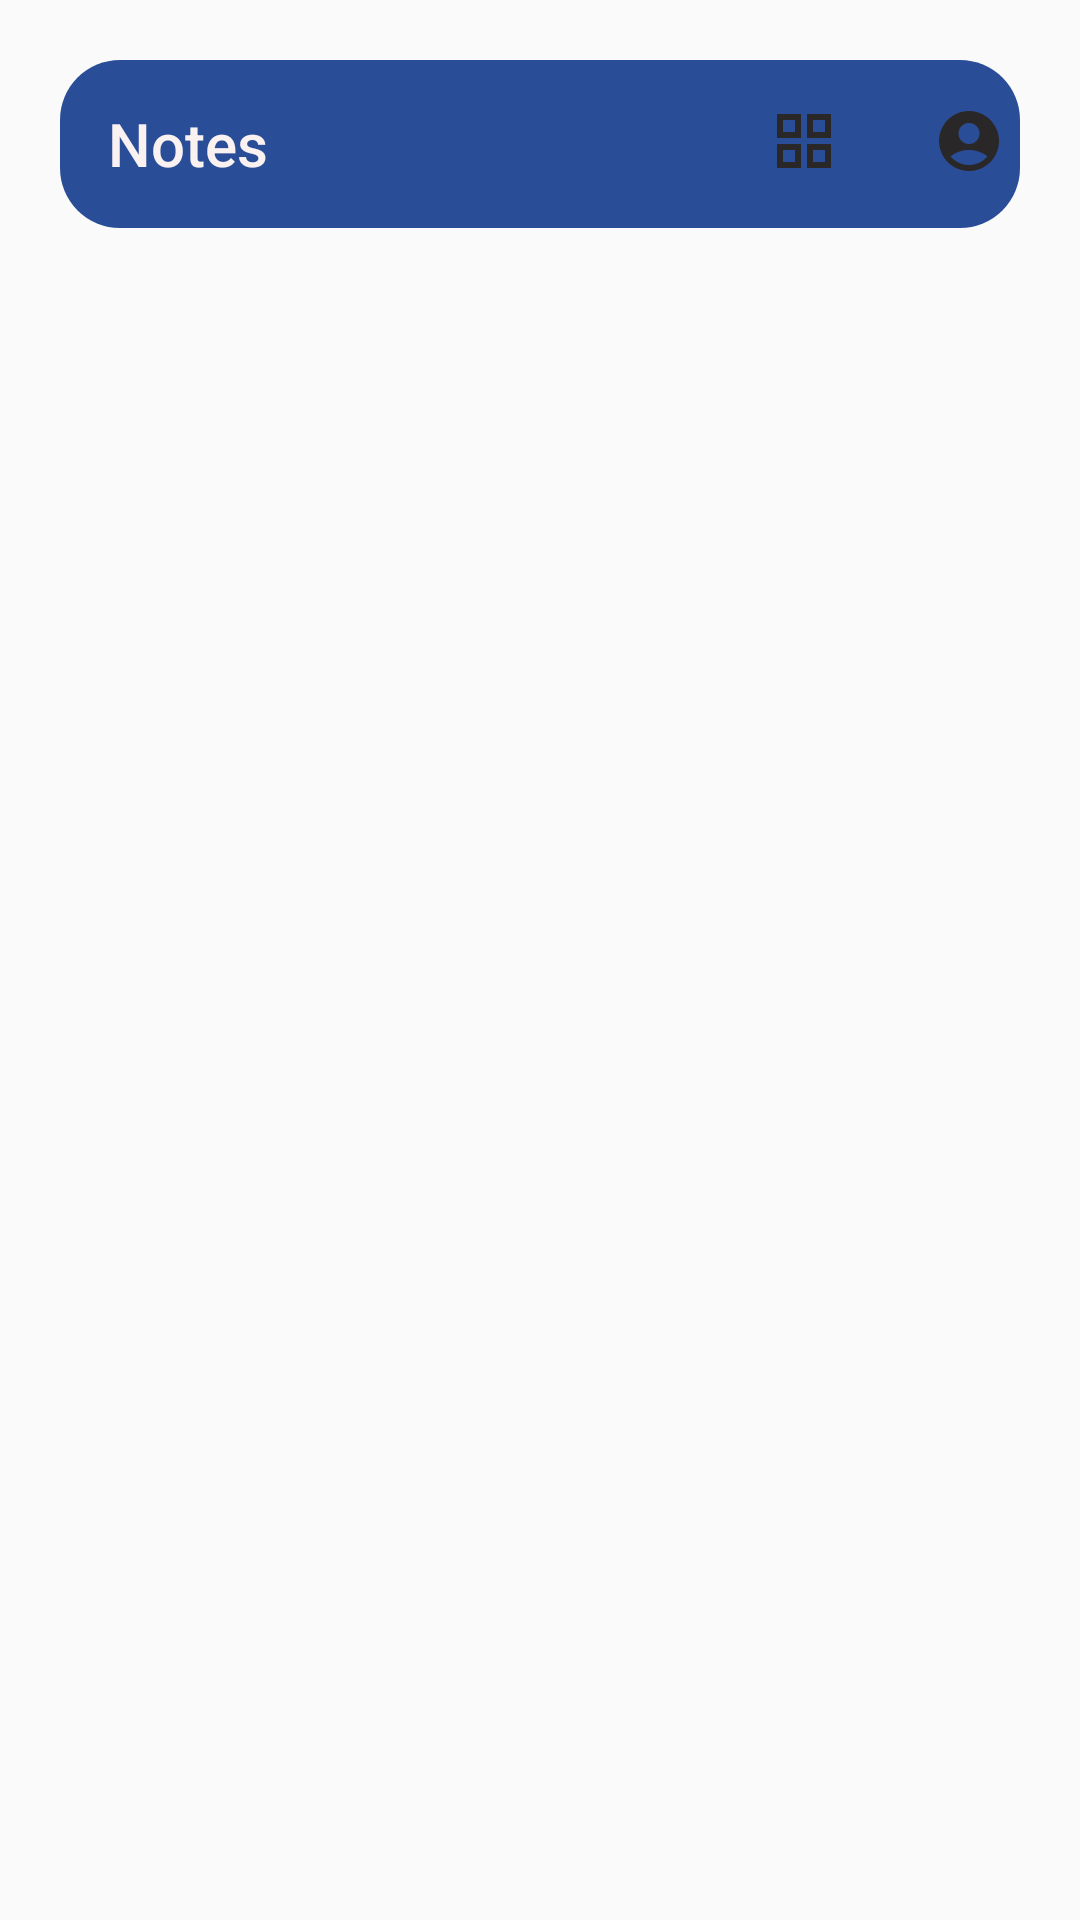

Named icons in this screenshot (1080w x 1920h) and their bounding boxes, Rect(x1, y1, x2, y2):
account circle: Rect(939, 111, 999, 171)
grid view: Rect(777, 114, 831, 168)
